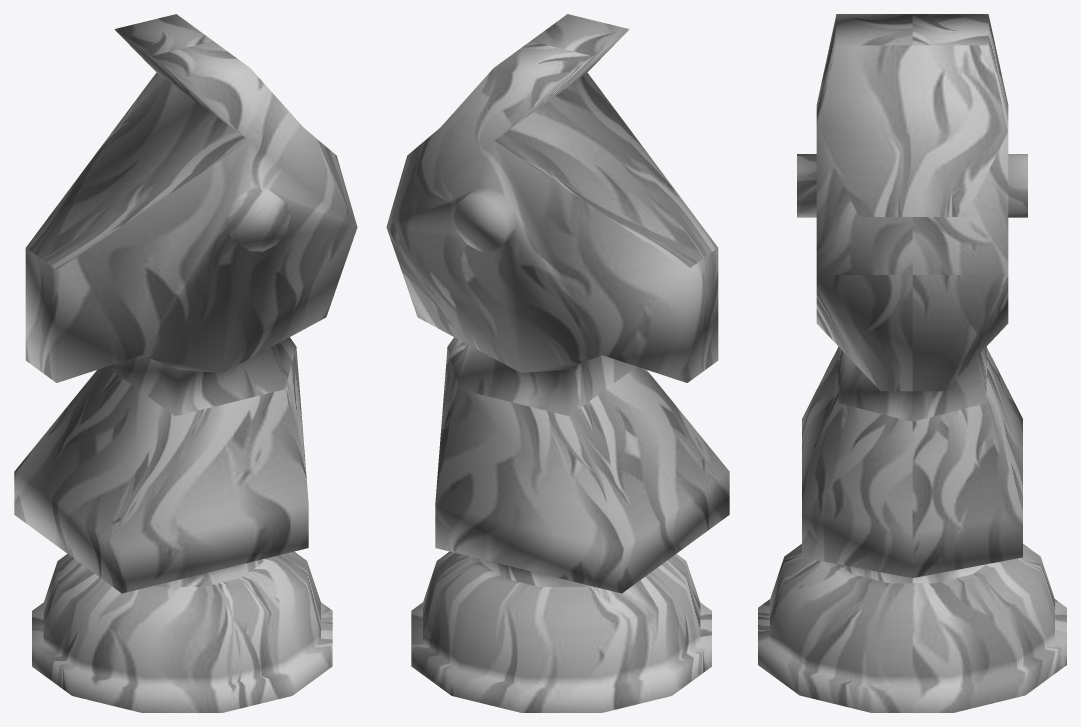
File: Knight.glb
The picture shows the model from 3 angles, left to right: view 1: azimuth 30°, elevation 25°; view 2: azimuth 150°, elevation 25°; view 3: azimuth 270°, elevation 25°; orthographic projection. The views are drawn at different scales.
Visible parts, largest first — view 1: Knight; view 2: Knight; view 3: Knight.
Part boxes in pixels (<box>): Knight: <box>14,14,357,712</box>; Knight: <box>386,14,729,712</box>; Knight: <box>758,14,1066,712</box>.
Size of the model in its own units: 0.1308 by 0.2767 by 0.1253.
1 material, 1 textured.
